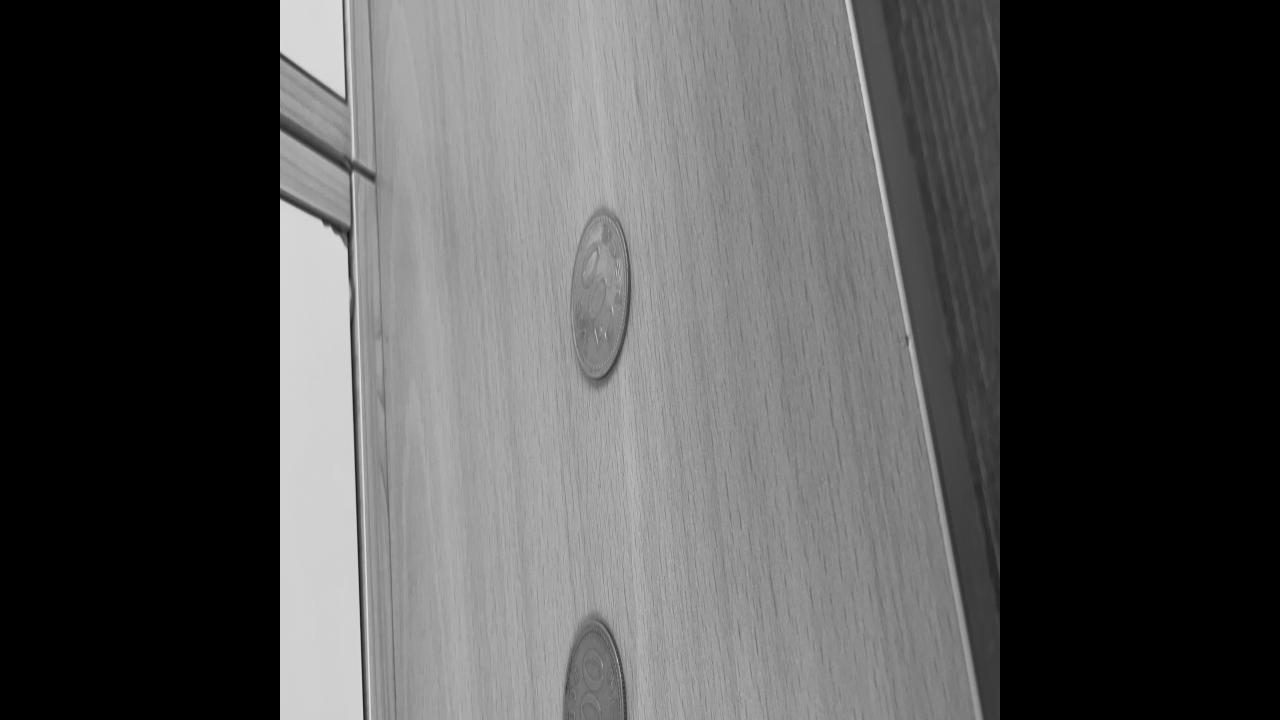coin: (568, 200, 632, 383), (561, 617, 626, 720)
